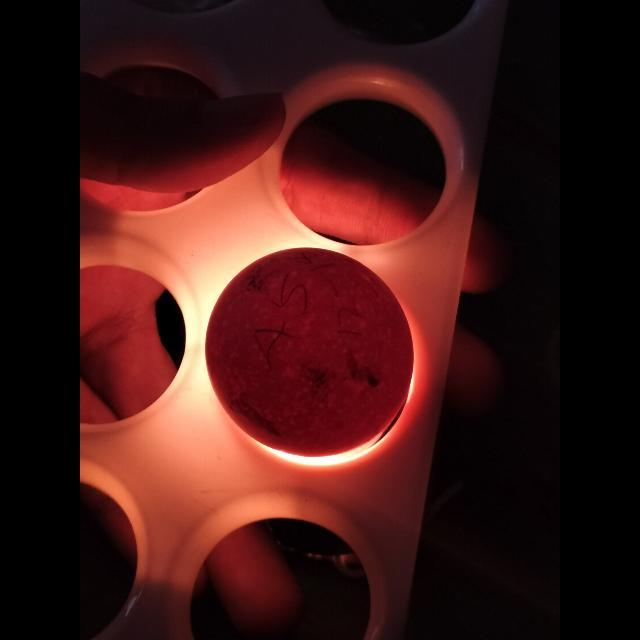Infertile: (206, 248, 418, 456)
